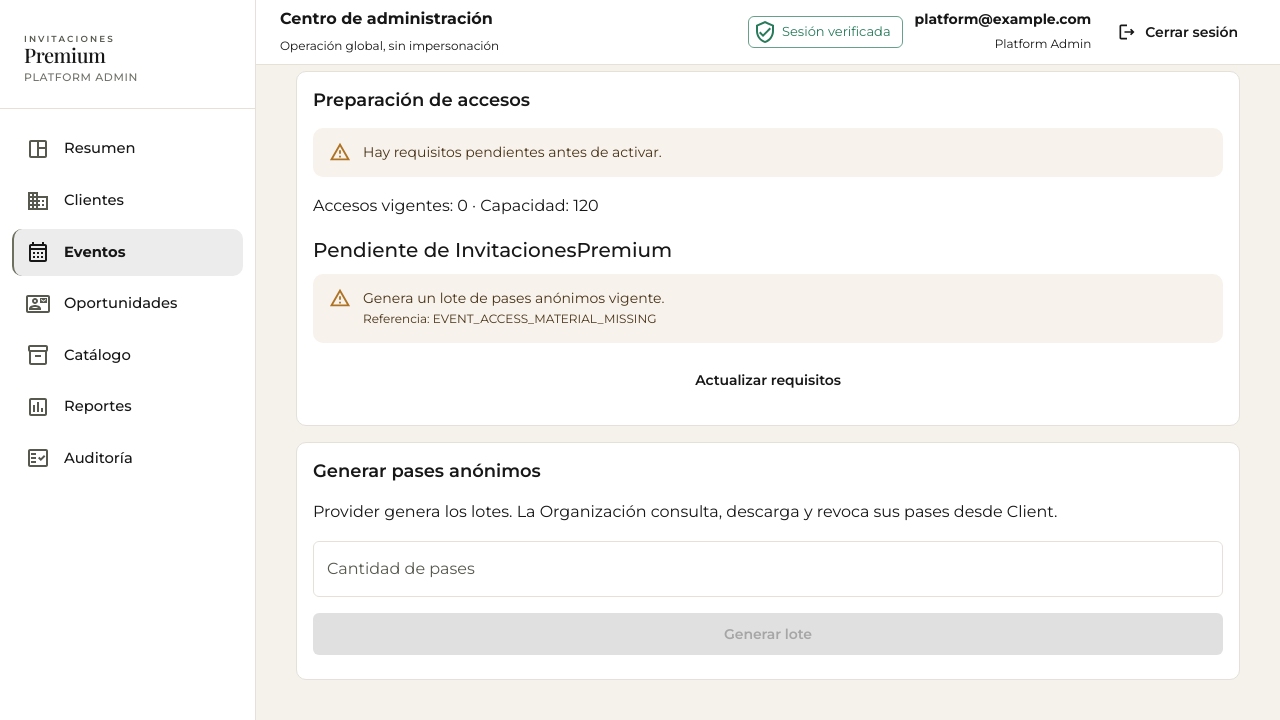
Scenario: Provider ACCESS_CONTROL › generates a Provider batch once and refreshes authoritative readiness and Event
The image size is (1280, 720).
(page scrolled)
Type "2" into the number field labelled "Cantidad de pases".
click(768, 569); type("2")  # box [313,541,1223,597]
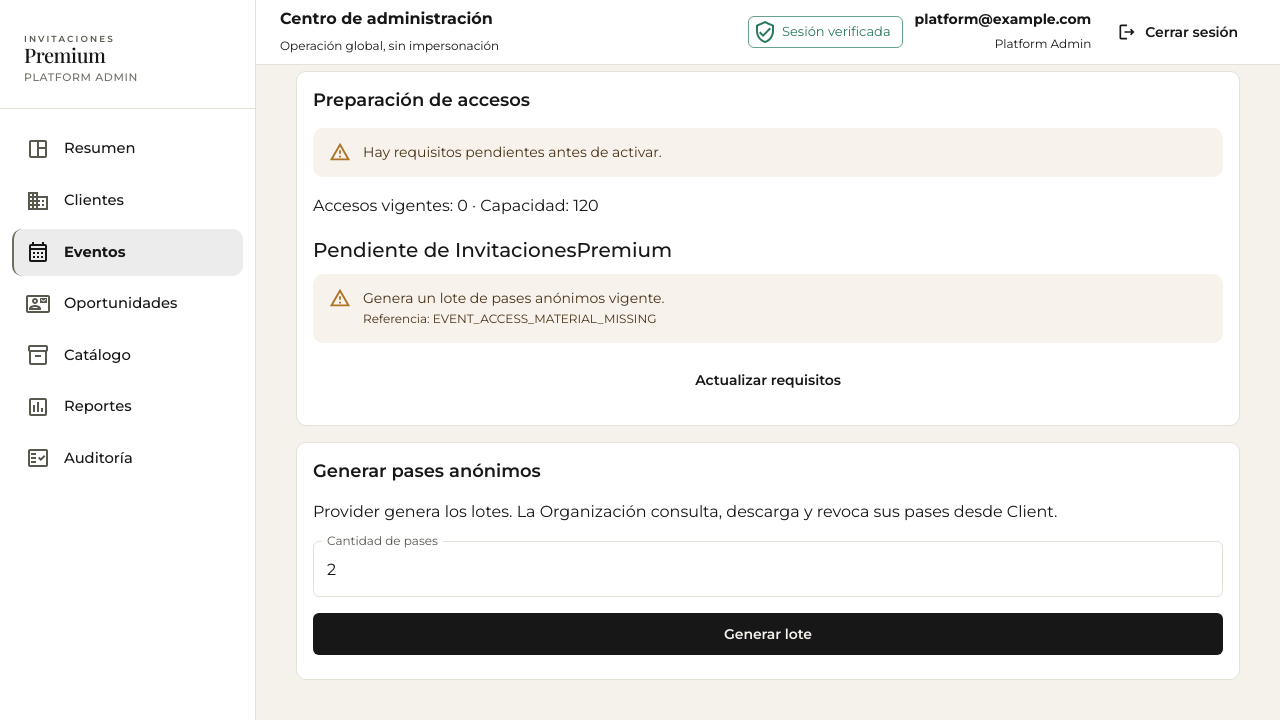
Click the button "Generar lote".
click(768, 634)  # box [313,613,1223,655]
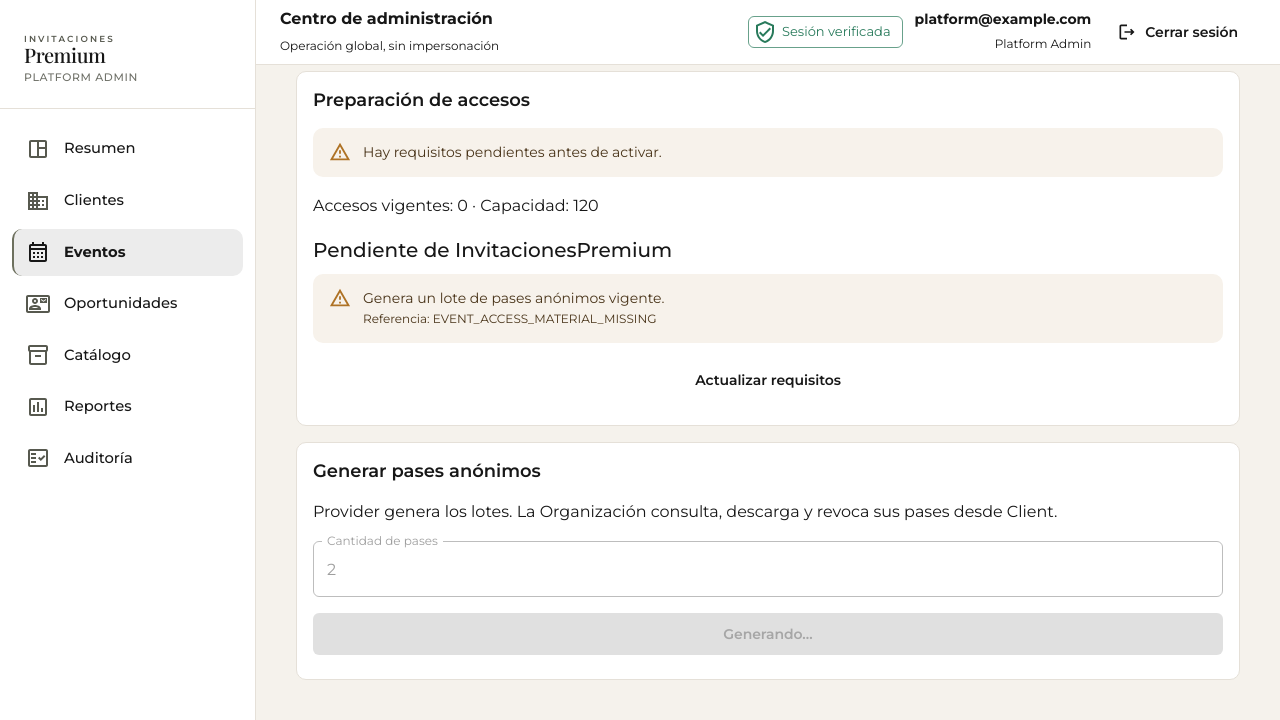
Click the button named "Generar lote".
click(768, 634)  # box [313,613,1223,655]
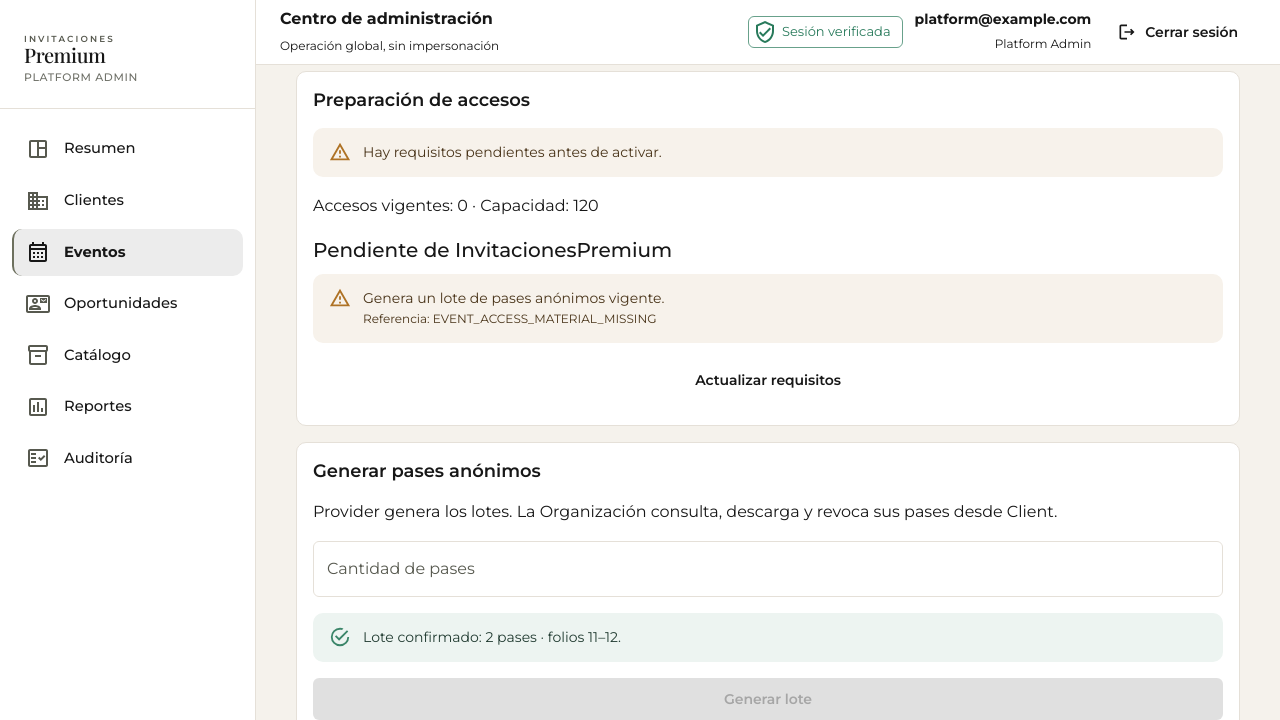
Expected: the text "Lote confirmado: 2 pases · folios 11–12." is shown, [363,628,621,646]
